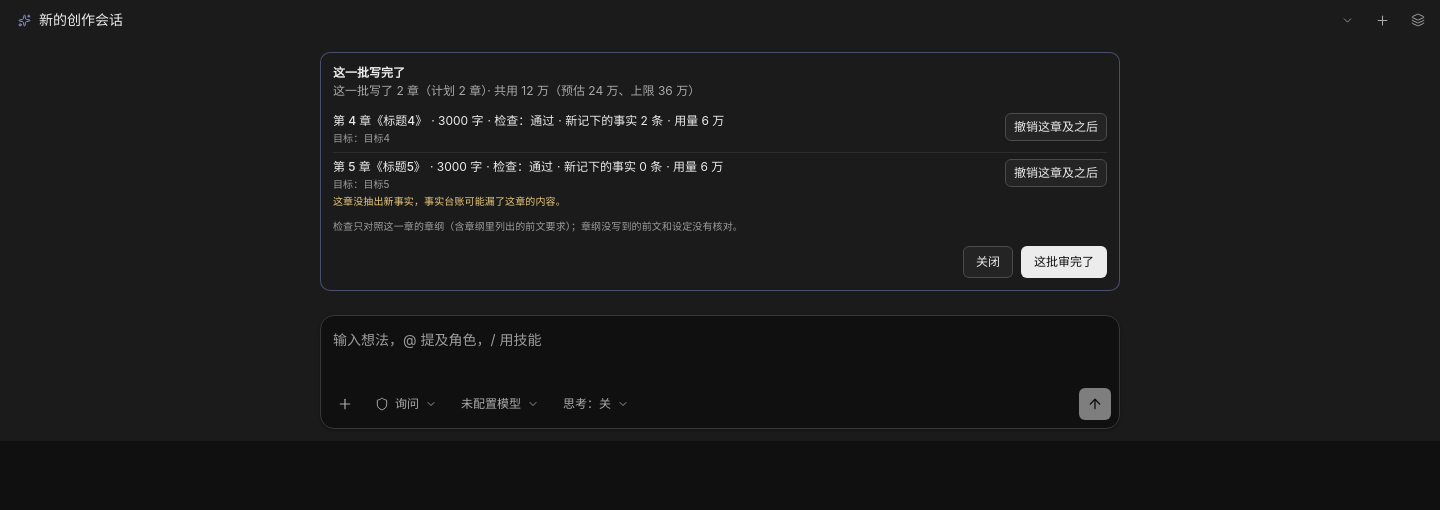
it: 撤销以后那一行只说已撤销：不再报新记下的事实（台账已经回退），也不再提醒没抽出事实
Step 1. Click the button "撤销这章及之后" in the row of "目标4" → (1056, 127), box x1=1005 y1=113 x2=1107 y2=141
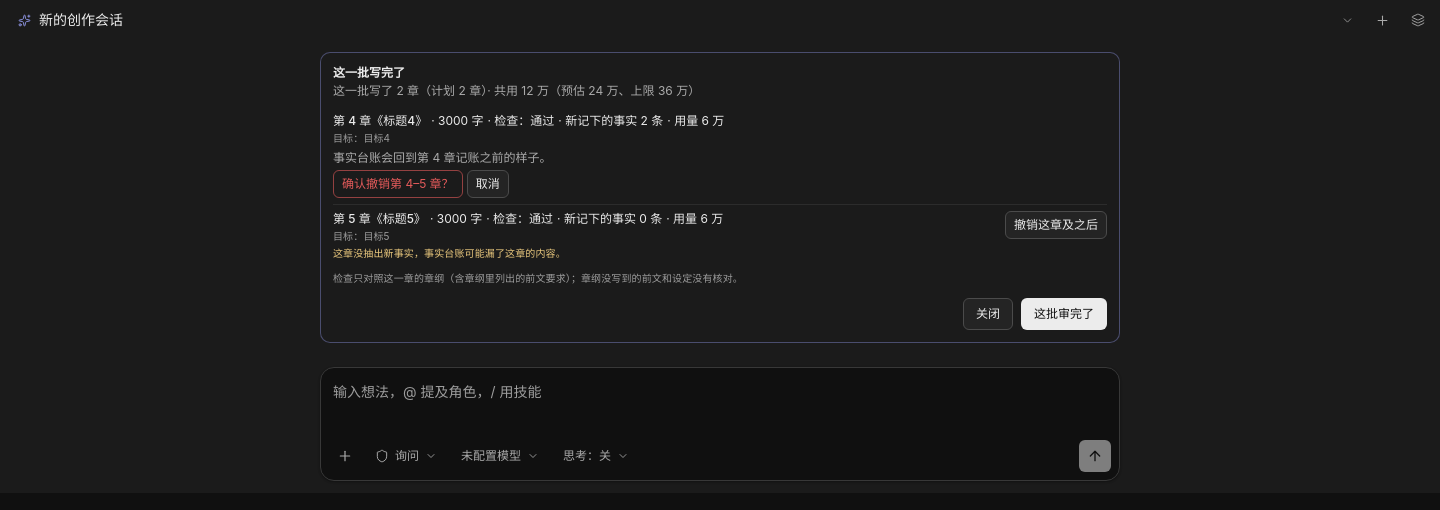
Step 2. Click the button "确认撤销第 4–5 章？" → (398, 184), box x1=333 y1=170 x2=463 y2=198
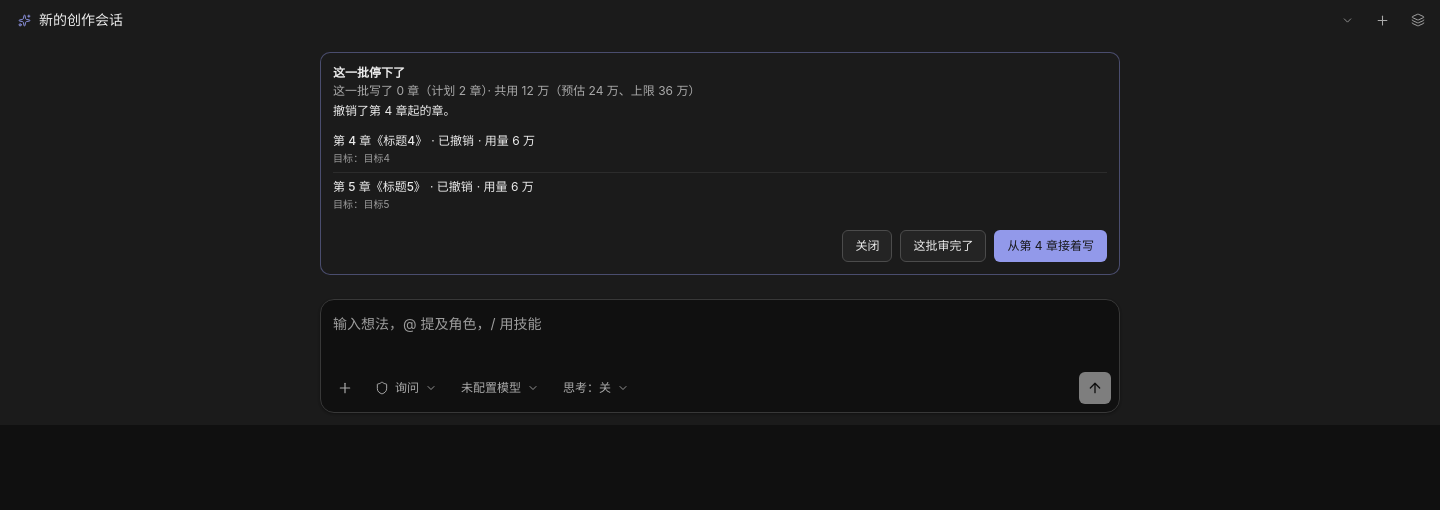
Result: the text "撤销了第 4 章起的章。" is shown at x1=333 y1=103 x2=456 y2=118
